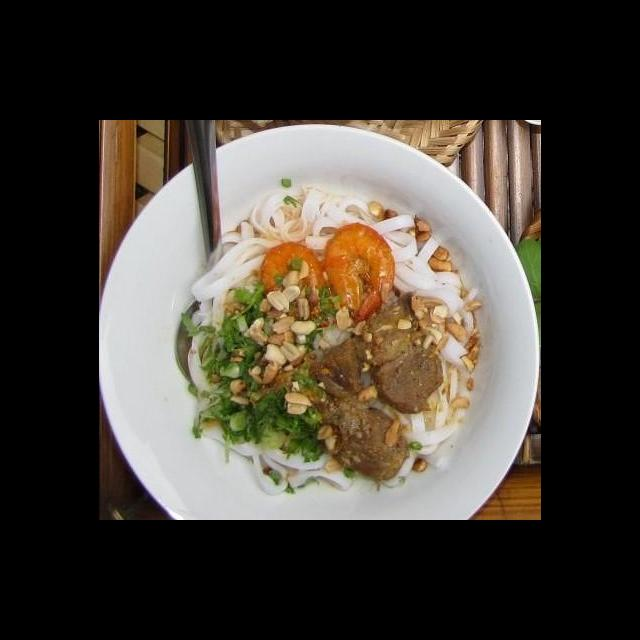mi: (189, 182, 378, 304), (369, 211, 483, 337), (197, 419, 359, 498), (396, 327, 475, 458), (184, 296, 239, 406)
tom: (319, 220, 398, 329), (256, 239, 339, 331)
